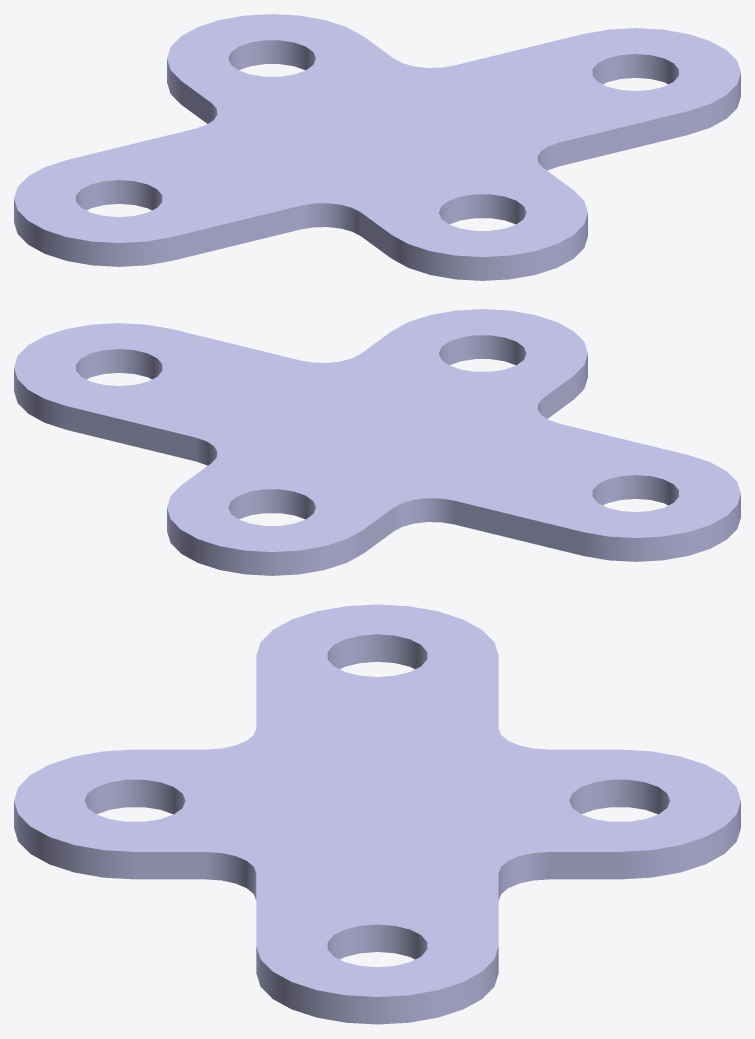
File: 7 Offset link.fbx
The picture shows the model from 3 angles, top to bottom: view 1: azimuth 30°, elevation 25°; view 2: azimuth 150°, elevation 25°; view 3: azimuth 270°, elevation 25°; orthographic projection. The views are drawn at different scales.
Parts seen in each view (by area): view 1: PartBody; view 2: PartBody; view 3: PartBody.
Part boxes in pixels (x1,y1,x2,y2): PartBody: (14,14,740,280); PartBody: (14,309,740,575); PartBody: (14,604,740,1024).
Size of the model in its own units: 9.2 by 0.3 by 7.2.
